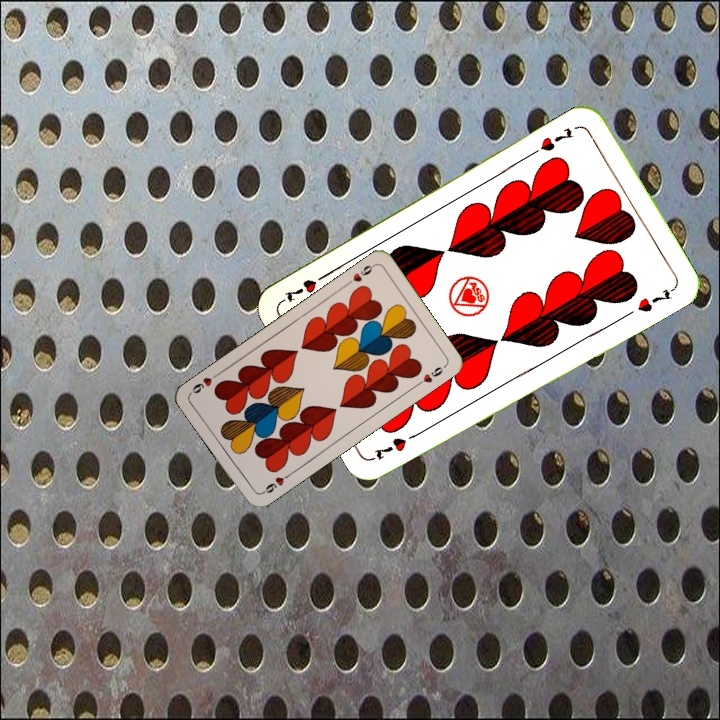H7: (370, 427, 424, 463), (536, 123, 576, 154)
H9: (257, 469, 294, 497), (342, 260, 378, 288)
